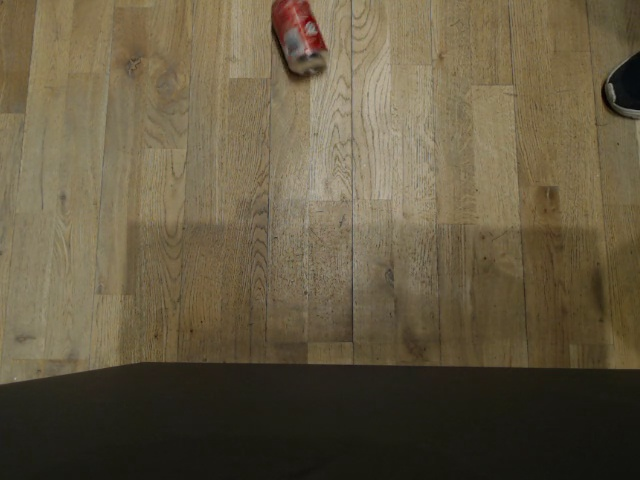cola: (265, 0, 335, 80)
